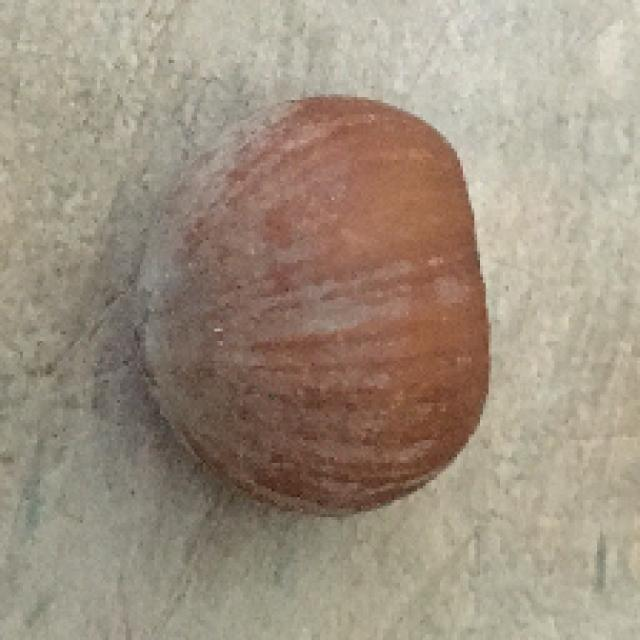qualityHazelnut: (145, 88, 493, 529)
